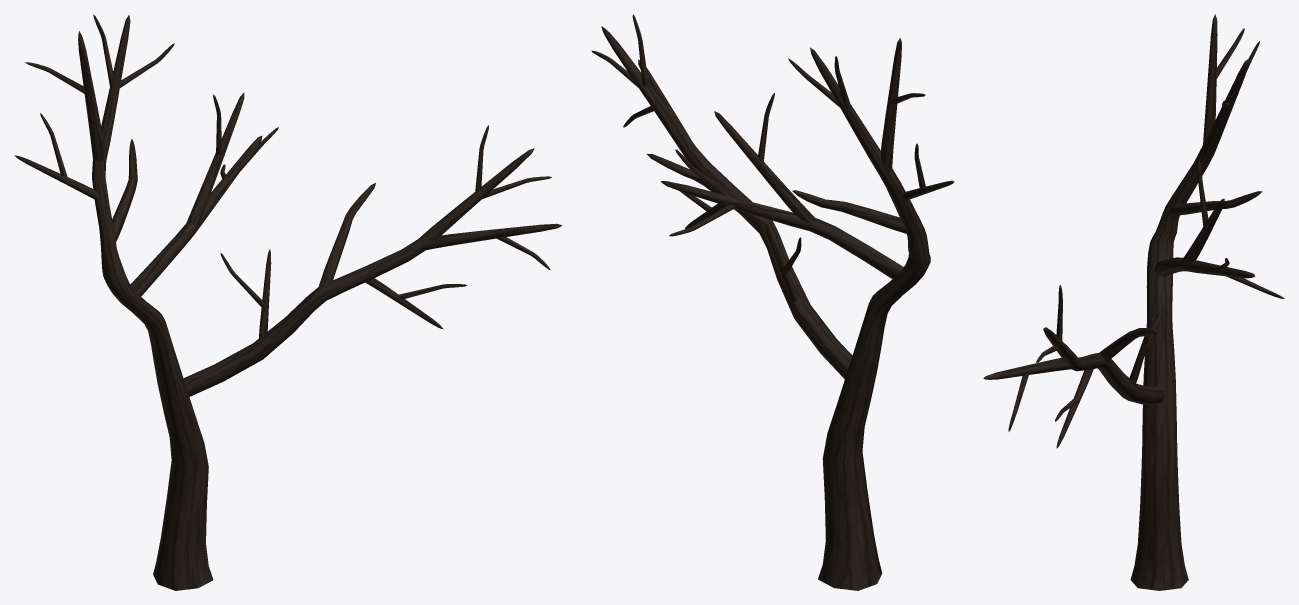
The model's file is dead_tree_6.glb.
3 renders of one model, left to right at view 1: azimuth 30°, elevation 25°; view 2: azimuth 150°, elevation 25°; view 3: azimuth 270°, elevation 25°, orthographic. The views are drawn at different scales.
Visible parts, largest first — view 1: DeadTree_62; view 2: DeadTree_62; view 3: DeadTree_62.
Part boxes in pixels (x1,y1,x2,y2): DeadTree_62: (14,14,562,590); DeadTree_62: (591,14,954,590); DeadTree_62: (983,14,1284,590).
Size of the model in its own units: 5.41 by 6.41 by 3.3.
1 material, 1 textured.
